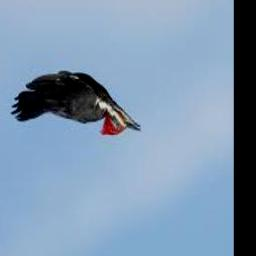Woodpecker: (9, 73, 140, 136)
